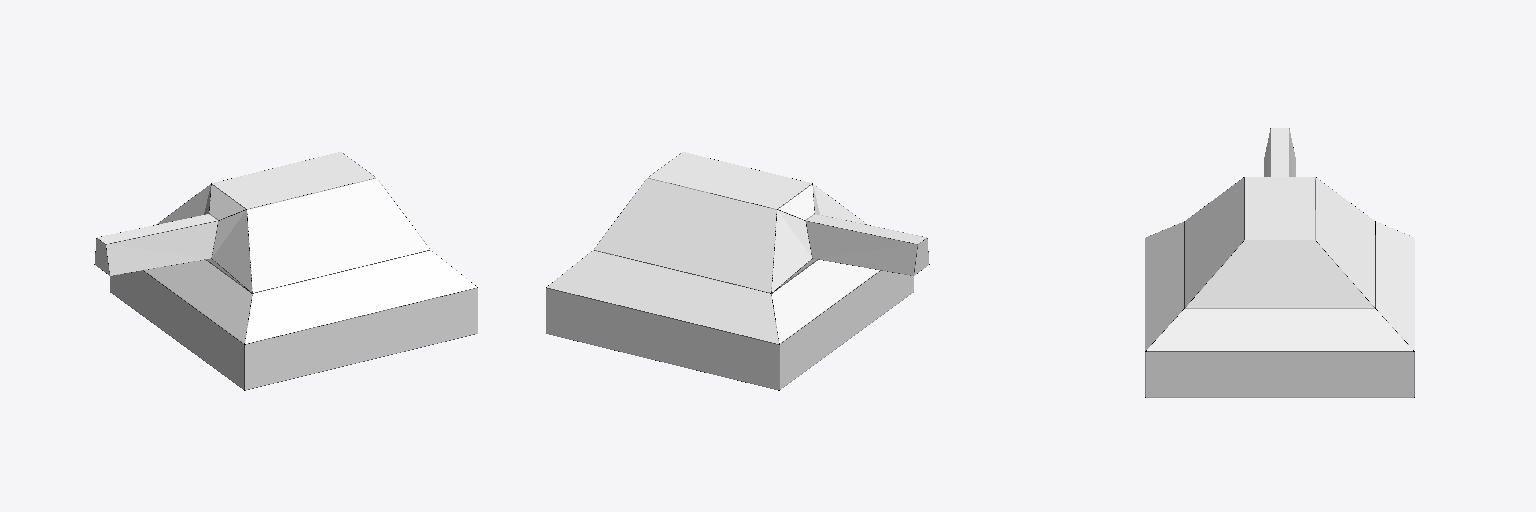
The picture shows the model from 3 angles: view 1: azimuth 30°, elevation 25°; view 2: azimuth 150°, elevation 25°; view 3: azimuth 270°, elevation 25°; orthographic projection.
Visible parts, largest first — view 1: Cube; view 2: Cube; view 3: Cube.
Boxes of the visible parts, x1,y1,x2,y2 form: Cube: [94, 152, 477, 390]; Cube: [546, 152, 929, 390]; Cube: [1145, 128, 1414, 397].
Size of the model in its own units: 2.65 by 1.08 by 2.
1 materials, 1 textured.